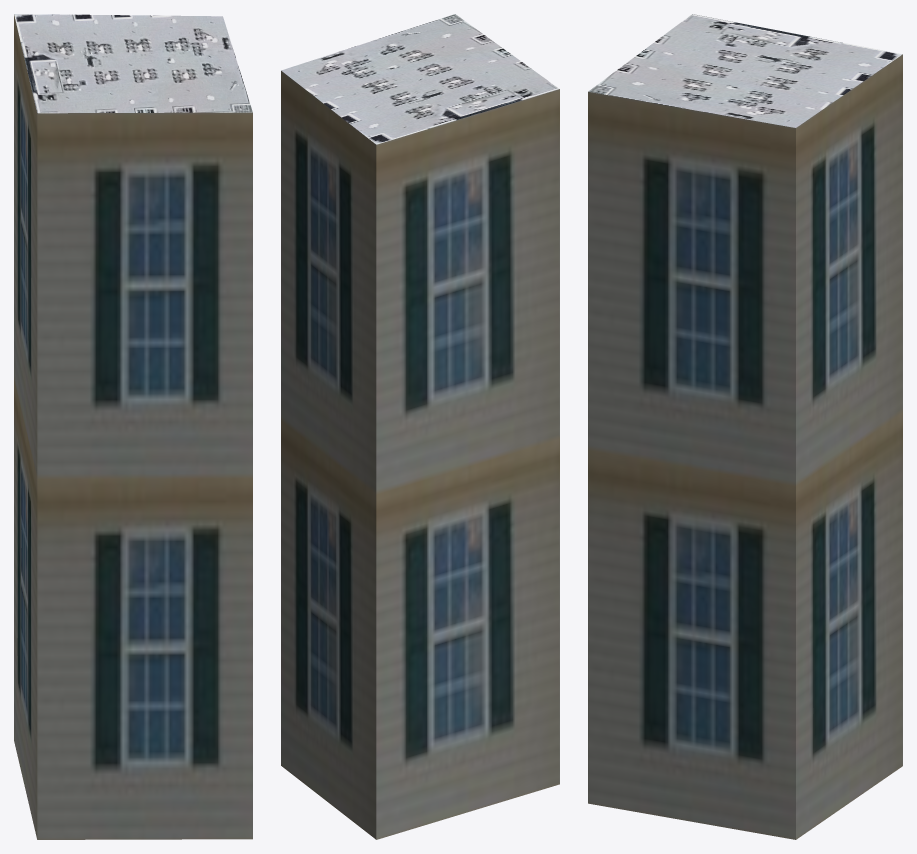
The model's file is ResTex__782.fbx.
3 renders of one model, left to right at view 1: azimuth 30°, elevation 25°; view 2: azimuth 150°, elevation 25°; view 3: azimuth 270°, elevation 25°, orthographic. The views are drawn at different scales.
Visible parts, largest first — view 1: CityEngineMaterial_7_m, CityEngineMaterial_4_m; view 2: CityEngineMaterial_7_m, CityEngineMaterial_4_m; view 3: CityEngineMaterial_7_m, CityEngineMaterial_4_m.
Boxes of the visible parts, <box> form: CityEngineMaterial_7_m: <box>14,15,252,839</box>; CityEngineMaterial_4_m: <box>14,14,252,113</box>; CityEngineMaterial_7_m: <box>281,71,559,839</box>; CityEngineMaterial_4_m: <box>281,14,559,144</box>; CityEngineMaterial_7_m: <box>588,54,902,839</box>; CityEngineMaterial_4_m: <box>588,14,902,127</box>.
Bounding box in the file's own units: 2.06 × 6 × 2.4.
Materials: 2 (2 with a texture image).
